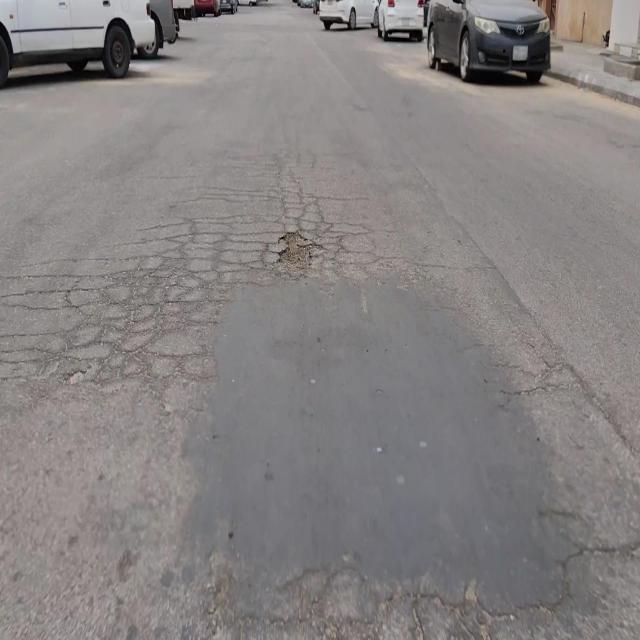Potholes: (274, 228, 322, 271)
